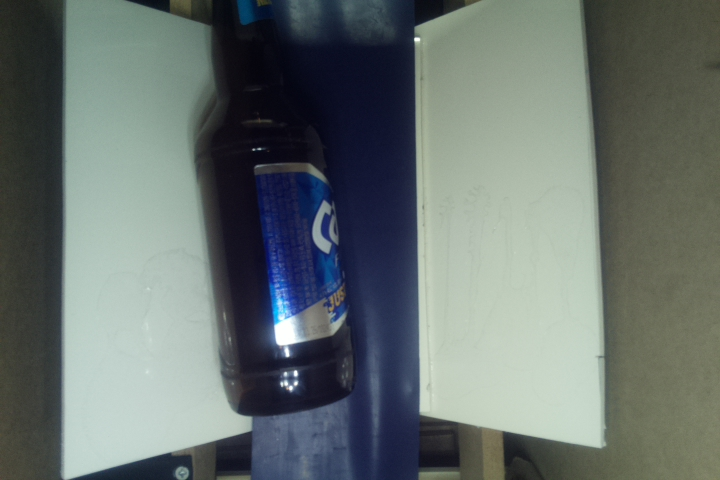makju: (191, 1, 362, 417)
